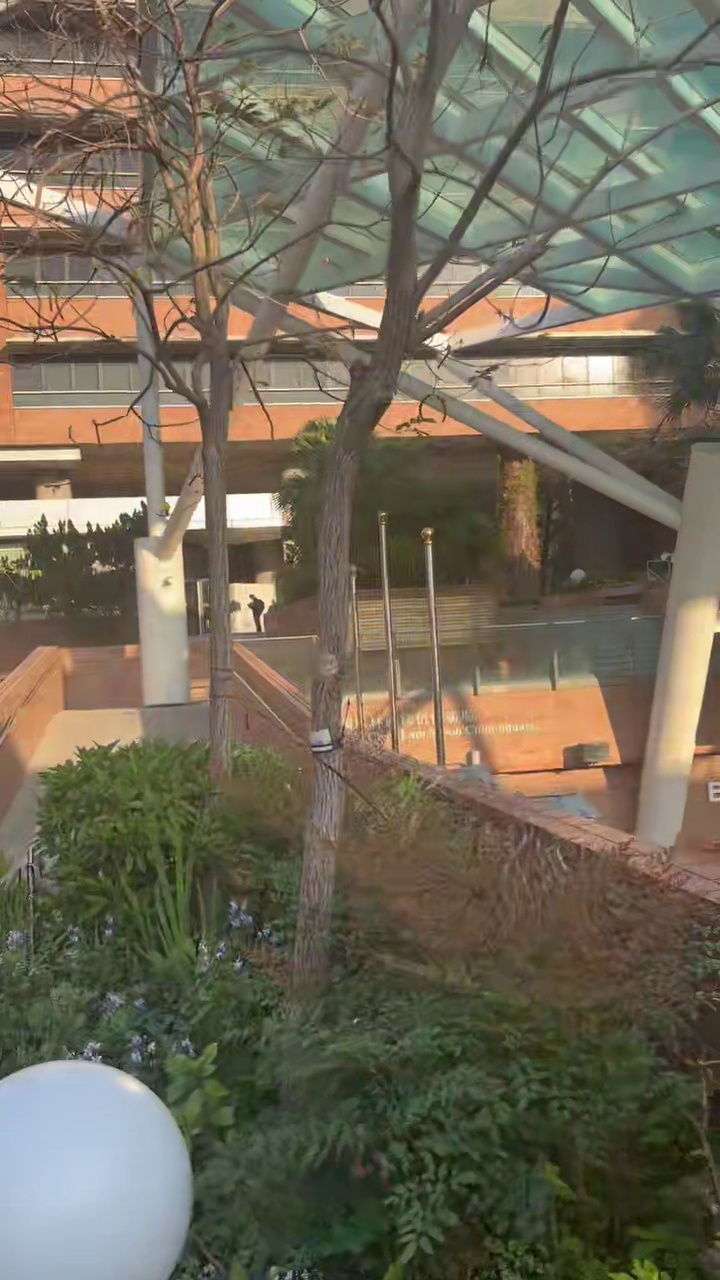Tabebuia chrysantha: (291, 0, 568, 1002), (453, 232, 550, 313)
